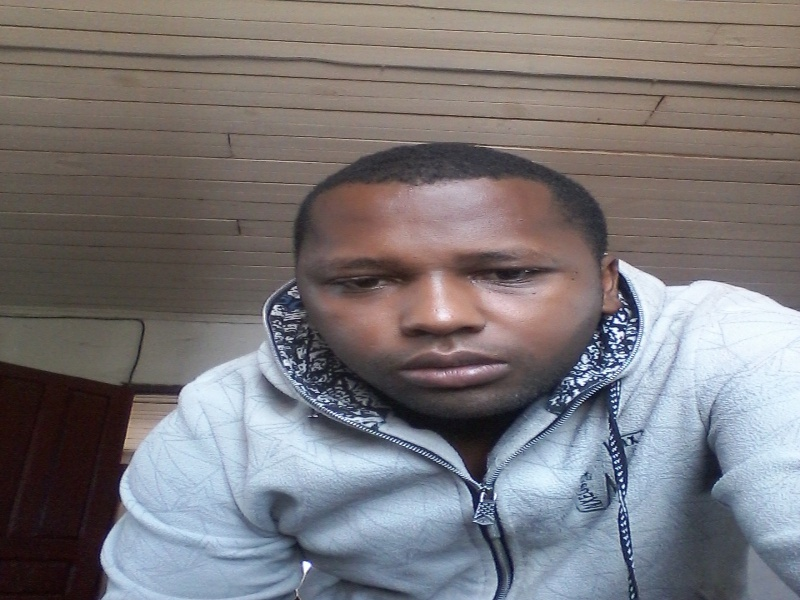TsisyArotava: (284, 149, 620, 438)
